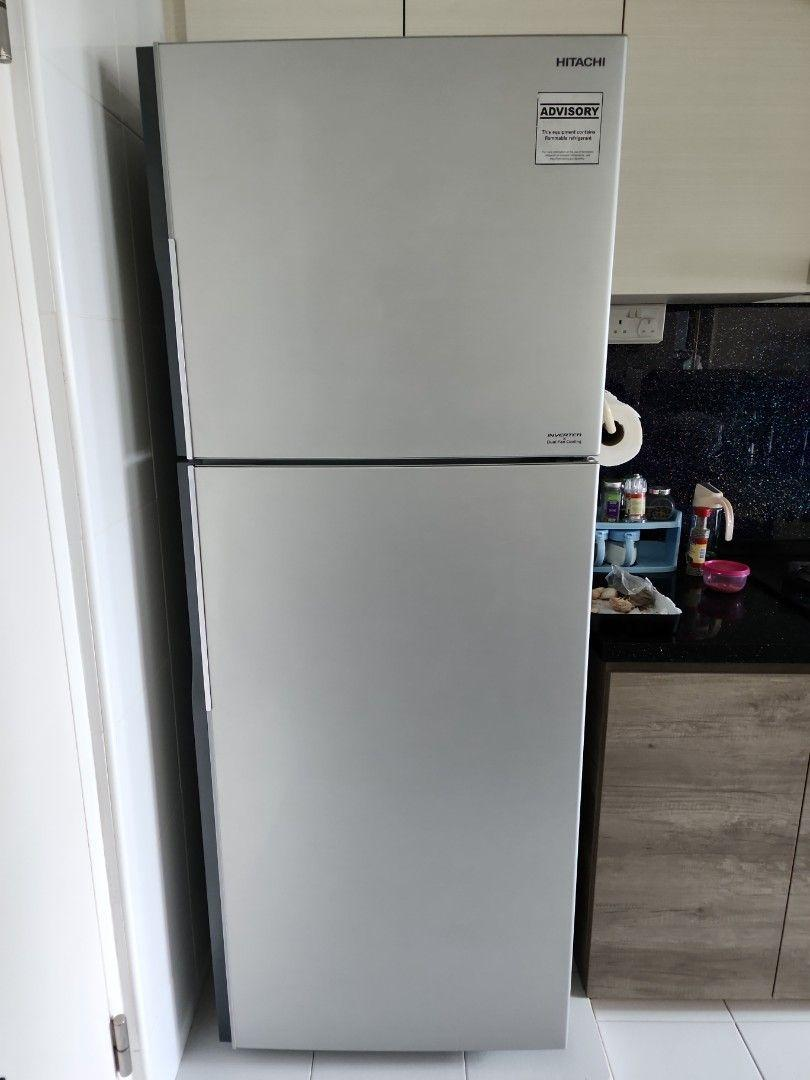Fridge: (130, 29, 631, 1061)
